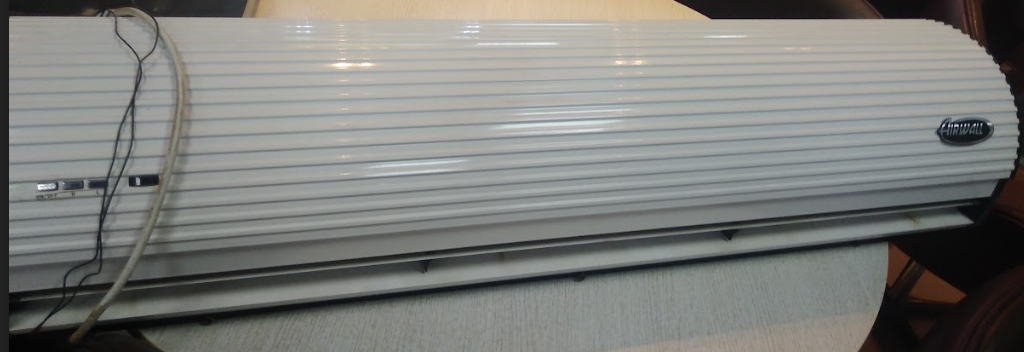Air Curtain: (5, 7, 1023, 302)
